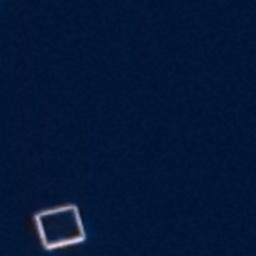square_solid: (26, 197, 92, 255)
